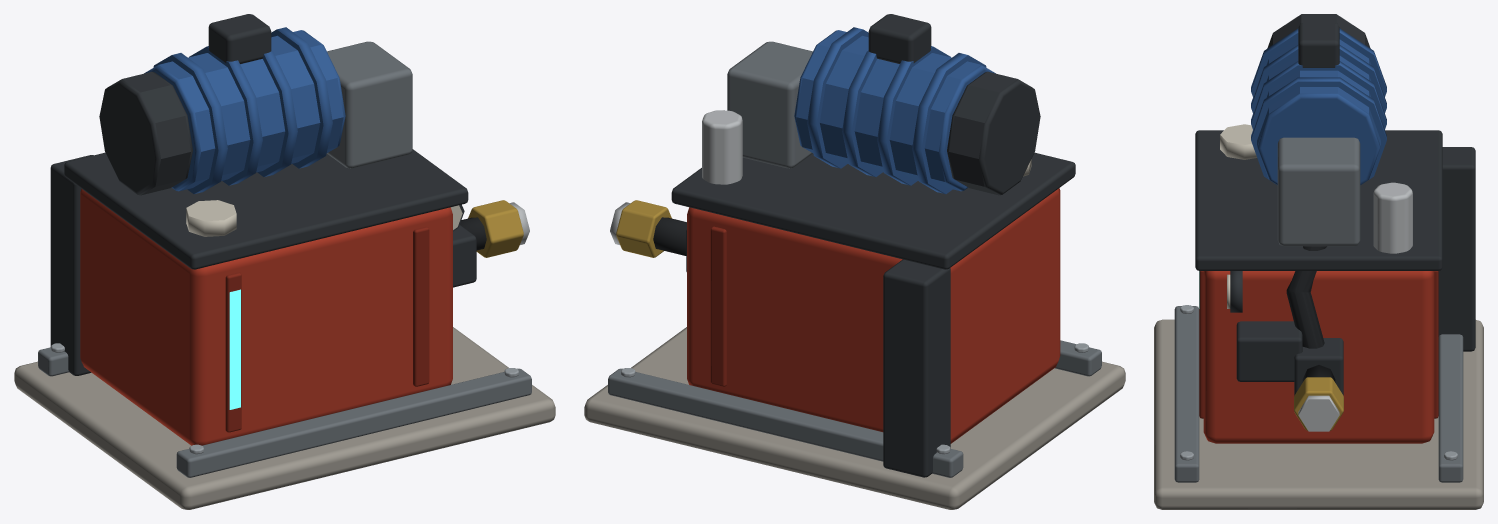
The model's file is pp_pack.glb.
3 views of the same model, side by side, from view 1: azimuth 30°, elevation 25°; view 2: azimuth 150°, elevation 25°; view 3: azimuth 270°, elevation 25° (orthographic). The views are drawn at different scales.
Parts seen in each view (by area): view 1: block.004, block.001, block.005, cyl.001, block.002, cyl.006, block.009, block, block.007, block.008, cyl.002, cyl.005 (+8 smaller); view 2: block.004, block.001, block.005, block, cyl.001, cyl.006, block.003, block.009, cyl.008, block.007, block.008, cyl.002 (+6 smaller); view 3: block.004, block.001, block.005, block.009, cyl.001, block, block.002, block.010, block.003, cyl.008, cyl.005, pipe (+11 smaller).
Part boxes in pixels (left/top/right/bottom): block.004: left=80, top=189, right=452, bottom=445; block.001: left=14, top=327, right=555, bottom=509; block.005: left=64, top=149, right=468, bottom=269; cyl.001: left=144, top=30, right=345, bottom=191; block.002: left=176, top=368, right=531, bottom=477; cyl.006: left=99, top=71, right=192, bottom=195; block.009: left=327, top=41, right=412, bottom=168; block: left=50, top=155, right=93, bottom=375; block.007: left=413, top=226, right=429, bottom=386; block.008: left=208, top=14, right=271, bottom=63; cyl.002: left=153, top=53, right=227, bottom=194; cyl.005: left=271, top=27, right=332, bottom=168; block.004: left=687, top=188, right=1060, bottom=443; block.001: left=584, top=327, right=1125, bottom=509; block.005: left=671, top=152, right=1075, bottom=269; block: left=883, top=259, right=950, bottom=477; cyl.001: left=794, top=30, right=995, bottom=191; cyl.006: left=947, top=71, right=1040, bottom=195; block.003: left=608, top=368, right=963, bottom=477; block.009: left=727, top=41, right=812, bottom=168; cyl.008: left=702, top=110, right=742, bottom=184; block.007: left=710, top=226, right=726, bottom=386; block.008: left=868, top=14, right=931, bottom=63; cyl.002: left=912, top=53, right=986, bottom=194; block.004: left=1203, top=271, right=1434, bottom=443; block.001: left=1154, top=319, right=1483, bottom=509; block.005: left=1195, top=130, right=1442, bottom=270; block.009: left=1277, top=137, right=1360, bottom=246; cyl.001: left=1257, top=39, right=1380, bottom=184; block: left=1438, top=147, right=1475, bottom=351; block.002: left=1174, top=306, right=1199, bottom=482; block.010: left=1236, top=321, right=1302, bottom=381; block.003: left=1438, top=334, right=1463, bottom=482; cyl.008: left=1373, top=182, right=1412, bottom=253; cyl.005: left=1251, top=77, right=1386, bottom=179; pipe: left=1286, top=246, right=1326, bottom=348.
Size of the model in its own units: 1.13 by 1 by 0.8.
